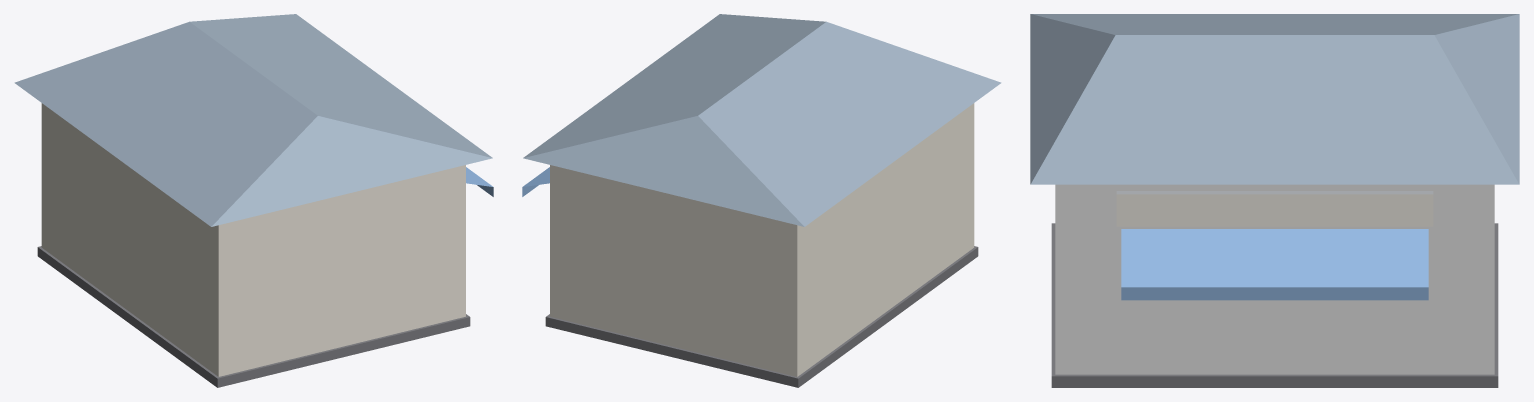
The model's file is Bldg_E.fbx.
The picture shows the model from 3 angles, left to right: view 1: azimuth 30°, elevation 25°; view 2: azimuth 150°, elevation 25°; view 3: azimuth 270°, elevation 25°; orthographic projection. The views are drawn at different scales.
Parts seen in each view (by area): view 1: Bldg_E; view 2: Bldg_E; view 3: Bldg_E.
Part boxes in pixels (box(x1,y1,x2,y2)): Bldg_E: box(14, 14, 493, 387); Bldg_E: box(522, 14, 1001, 387); Bldg_E: box(1030, 14, 1519, 387).
Size of the model in its own units: 6.45 by 4.3 by 6.9.
